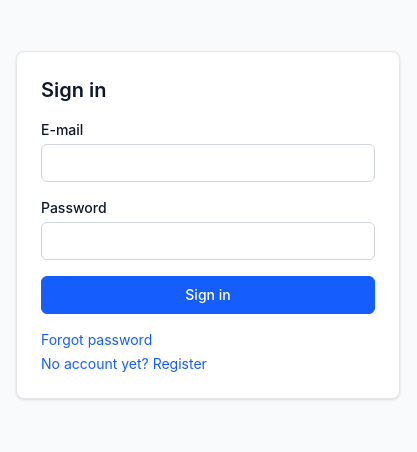
LoginView with two-factor authentication › explains a rate limit on the code step
The image size is (417, 452).
Type "jana@example.cz" into the field with test id "login-email". click: (208, 163)
box: [41, 144, 375, 182]
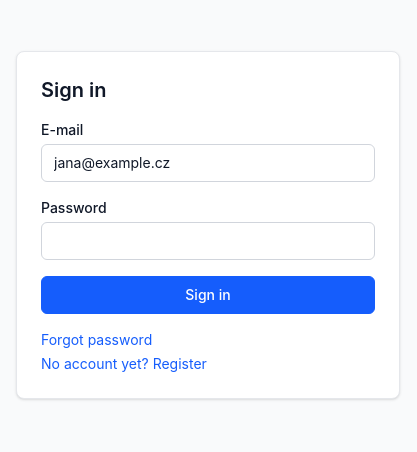
Type "correct horse battery" into the password field with test id "login-password". click: (208, 241)
box: [41, 222, 375, 260]
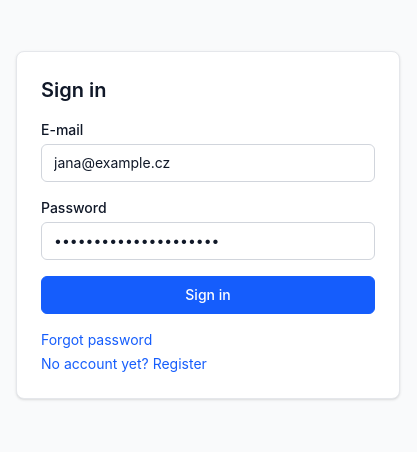
Submit the form, box [41, 120, 375, 314]
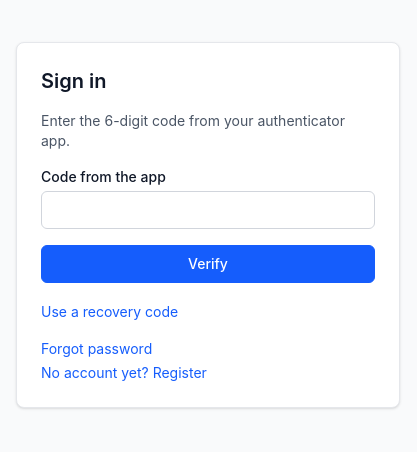
Type "000000" into the field with test id "login-code". click: (208, 210)
box: [41, 191, 375, 229]
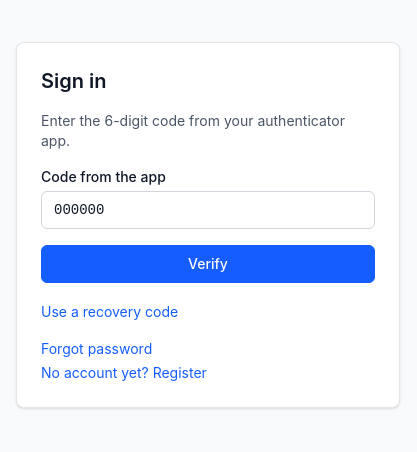
Submit the form with test id "login-code-step", box [41, 111, 375, 323]
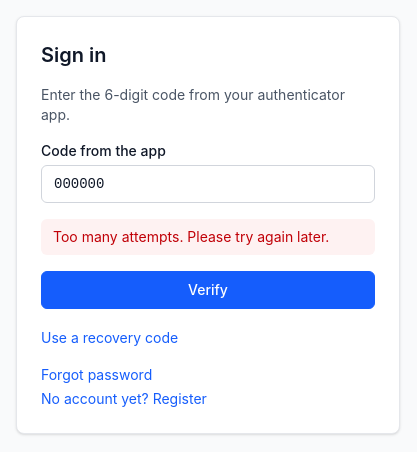
Check: the message with test id "login-code-error" reads "Too many attempts. Please try again later.", box [53, 228, 329, 245]
